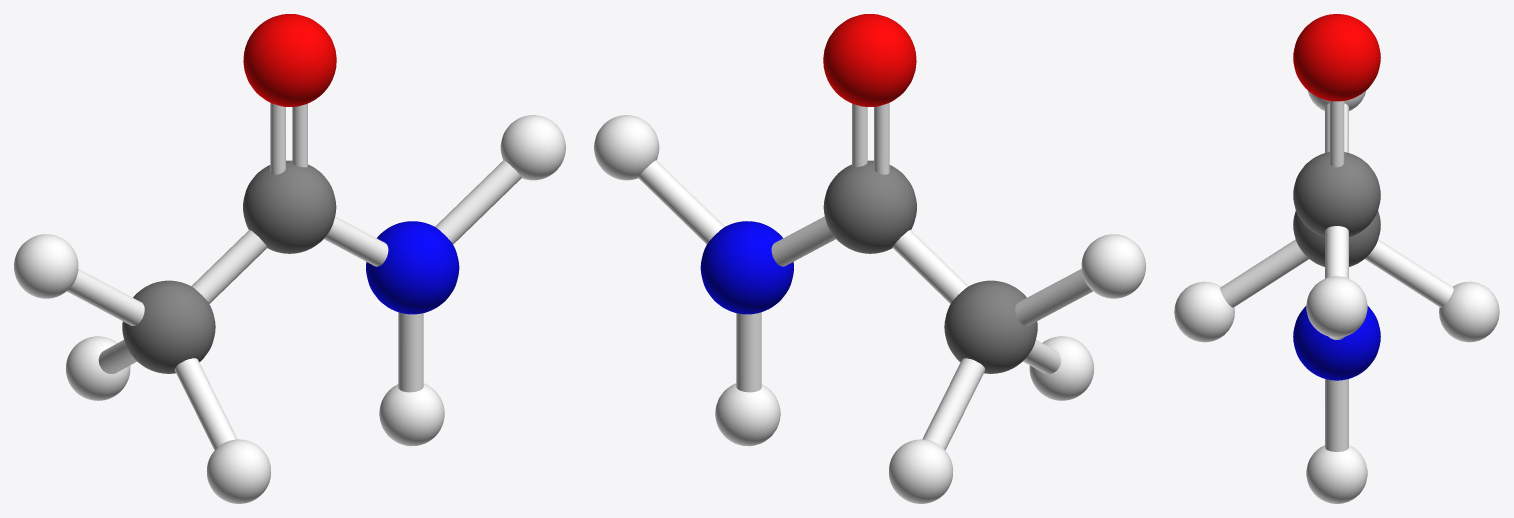
Rendered from Ethanamide.dae.
3 renders of one model, left to right at view 1: azimuth 30°, elevation 25°; view 2: azimuth 150°, elevation 25°; view 3: azimuth 270°, elevation 25°, orthographic. The views are drawn at different scales.
Parts seen in each view (by area): view 1: Ethanamide1_Ethanamide_pSphere32, Ethanamide1_Ethanamide_pSphere1, Ethanamide1_Ethanamide_pSphere27, Ethanamide1_Ethanamide_pSphere34, Ethanamide1_Ethanamide_pSphere26, Ethanamide_pSphere10_Ethanamide1, Ethanamide1_Ethanamide_pSphere25, Ethanamide1_Ethanamide_pSphere33, Ethanamide1_Ethanamide_pSphere24, Ethanamide1_Ethanamide_pCylinder29, Ethanamide1_Ethanamide_pCylinder27, Ethanamide1_Ethanamide_pCylinder38 (+6 smaller); view 2: Ethanamide1_Ethanamide_pSphere32, Ethanamide1_Ethanamide_pSphere1, Ethanamide1_Ethanamide_pSphere27, Ethanamide1_Ethanamide_pSphere34, Ethanamide1_Ethanamide_pSphere26, Ethanamide_pSphere10_Ethanamide1, Ethanamide1_Ethanamide_pSphere24, Ethanamide1_Ethanamide_pSphere33, Ethanamide1_Ethanamide_pSphere25, Ethanamide1_Ethanamide_pCylinder29, Ethanamide1_Ethanamide_pCylinder26, Ethanamide1_Ethanamide_pCylinder38 (+6 smaller); view 3: Ethanamide1_Ethanamide_pSphere32, Ethanamide1_Ethanamide_pSphere1, Ethanamide1_Ethanamide_pSphere27, Ethanamide_pSphere10_Ethanamide1, Ethanamide1_Ethanamide_pSphere33, Ethanamide1_Ethanamide_pSphere25, Ethanamide1_Ethanamide_pSphere24, Ethanamide1_Ethanamide_pCylinder26, Ethanamide1_Ethanamide_pCylinder27, Ethanamide1_Ethanamide_pSphere34, Ethanamide1_Ethanamide_pCylinder37, Ethanamide1_Ethanamide_pCylinder28 (+3 smaller).
Boxes of the visible parts, box(x1,y1,x2,y2) form: Ethanamide1_Ethanamide_pSphere32: box(243, 14, 336, 106); Ethanamide1_Ethanamide_pSphere1: box(243, 160, 336, 253); Ethanamide1_Ethanamide_pSphere27: box(366, 221, 459, 314); Ethanamide1_Ethanamide_pSphere34: box(122, 280, 215, 373); Ethanamide1_Ethanamide_pSphere26: box(14, 234, 78, 298); Ethanamide_pSphere10_Ethanamide1: box(500, 115, 565, 180); Ethanamide1_Ethanamide_pSphere25: box(206, 439, 270, 503); Ethanamide1_Ethanamide_pSphere33: box(379, 383, 444, 446); Ethanamide1_Ethanamide_pSphere24: box(66, 336, 130, 400); Ethanamide1_Ethanamide_pCylinder29: box(435, 160, 521, 244); Ethanamide1_Ethanamide_pCylinder27: box(174, 358, 237, 450); Ethanamide1_Ethanamide_pCylinder38: box(191, 230, 267, 303); Ethanamide1_Ethanamide_pSphere32: box(823, 14, 916, 106); Ethanamide1_Ethanamide_pSphere1: box(823, 160, 916, 253); Ethanamide1_Ethanamide_pSphere27: box(700, 221, 793, 314); Ethanamide1_Ethanamide_pSphere34: box(944, 280, 1037, 373); Ethanamide1_Ethanamide_pSphere26: box(1081, 234, 1145, 298); Ethanamide_pSphere10_Ethanamide1: box(594, 115, 659, 180); Ethanamide1_Ethanamide_pSphere24: box(889, 439, 953, 503); Ethanamide1_Ethanamide_pSphere33: box(715, 383, 780, 446); Ethanamide1_Ethanamide_pSphere25: box(1029, 336, 1094, 400); Ethanamide1_Ethanamide_pCylinder29: box(638, 160, 724, 244); Ethanamide1_Ethanamide_pCylinder26: box(922, 358, 985, 450); Ethanamide1_Ethanamide_pCylinder38: box(892, 230, 968, 303); Ethanamide1_Ethanamide_pSphere32: box(1293, 14, 1380, 101); Ethanamide1_Ethanamide_pSphere1: box(1293, 152, 1380, 237); Ethanamide1_Ethanamide_pSphere27: box(1293, 306, 1380, 380); Ethanamide_pSphere10_Ethanamide1: box(1306, 276, 1367, 337); Ethanamide1_Ethanamide_pSphere33: box(1306, 445, 1367, 503); Ethanamide1_Ethanamide_pSphere25: box(1174, 281, 1234, 342); Ethanamide1_Ethanamide_pSphere24: box(1439, 281, 1499, 342); Ethanamide1_Ethanamide_pCylinder26: box(1365, 239, 1453, 307); Ethanamide1_Ethanamide_pCylinder27: box(1220, 239, 1308, 307); Ethanamide1_Ethanamide_pSphere34: box(1293, 210, 1380, 266); Ethanamide1_Ethanamide_pCylinder37: box(1325, 379, 1348, 451); Ethanamide1_Ethanamide_pCylinder28: box(1325, 226, 1348, 278).
Bounding box in the file's own units: 4.31 × 2.38 × 3.45.
